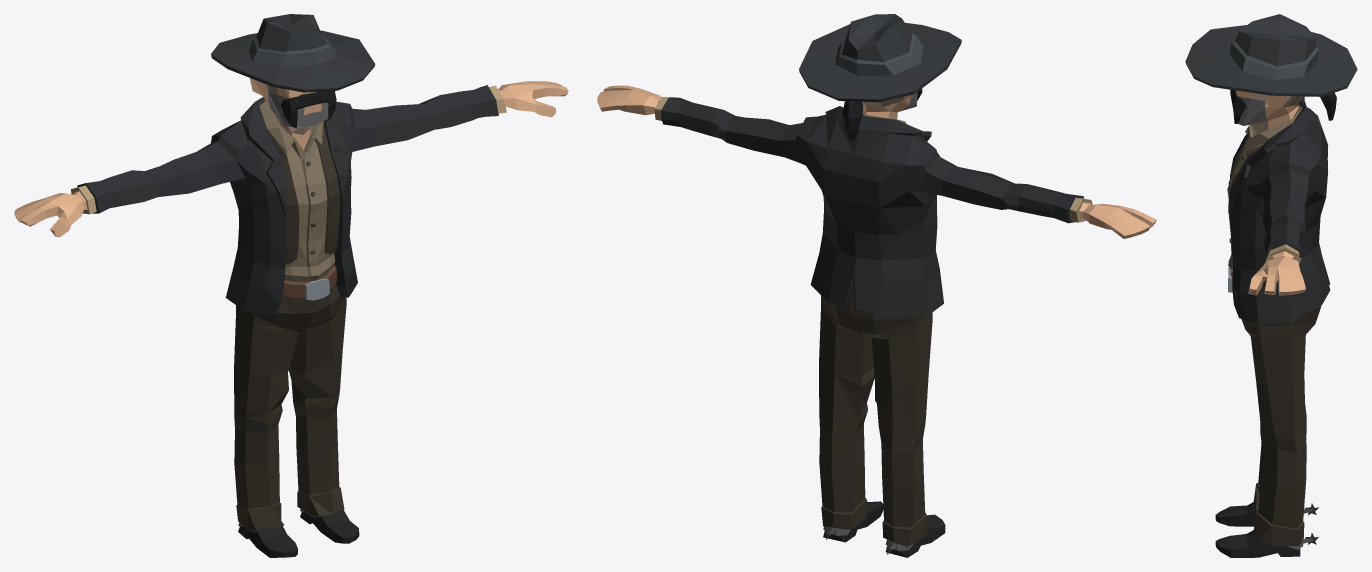
Rendered from culpable.fbx.
3 views of the same model, side by side, from view 1: azimuth 30°, elevation 25°; view 2: azimuth 150°, elevation 25°; view 3: azimuth 270°, elevation 25° (orthographic).
Visible parts, largest first — view 1: Character_Badguy_01_10; view 2: Character_Badguy_01_10; view 3: Character_Badguy_01_10.
Part boxes in pixels (box(x1,y1,x2,y2)): Character_Badguy_01_10: box(14, 14, 568, 557); Character_Badguy_01_10: box(597, 14, 1156, 557); Character_Badguy_01_10: box(1185, 14, 1357, 557).
Bounding box in the file's own units: 205 × 184 × 56.2.
